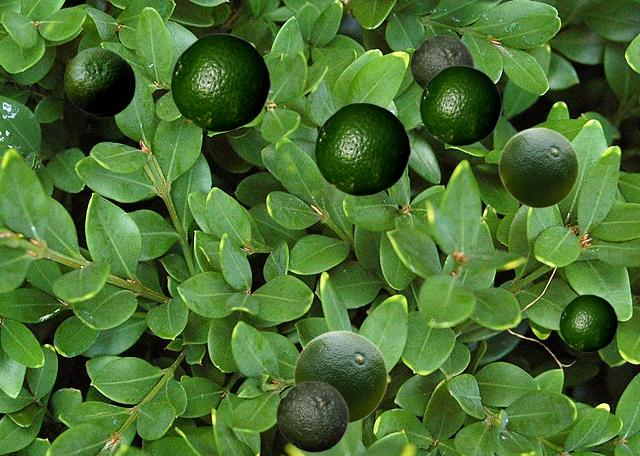calamansi: (170, 33, 270, 131), (314, 102, 410, 195), (293, 330, 387, 423), (419, 65, 501, 145), (498, 127, 578, 207), (276, 381, 348, 451), (64, 47, 129, 113), (410, 35, 473, 89), (559, 294, 617, 351), (84, 53, 134, 116)
